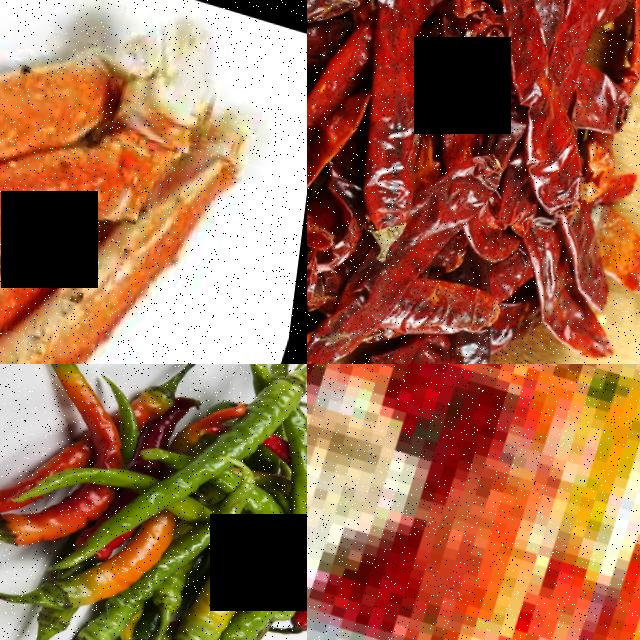chilli: (42, 536, 149, 615), (0, 364, 142, 421), (179, 545, 256, 640), (0, 490, 92, 560), (244, 364, 307, 437), (282, 447, 307, 545)
crab: (0, 0, 291, 364)
